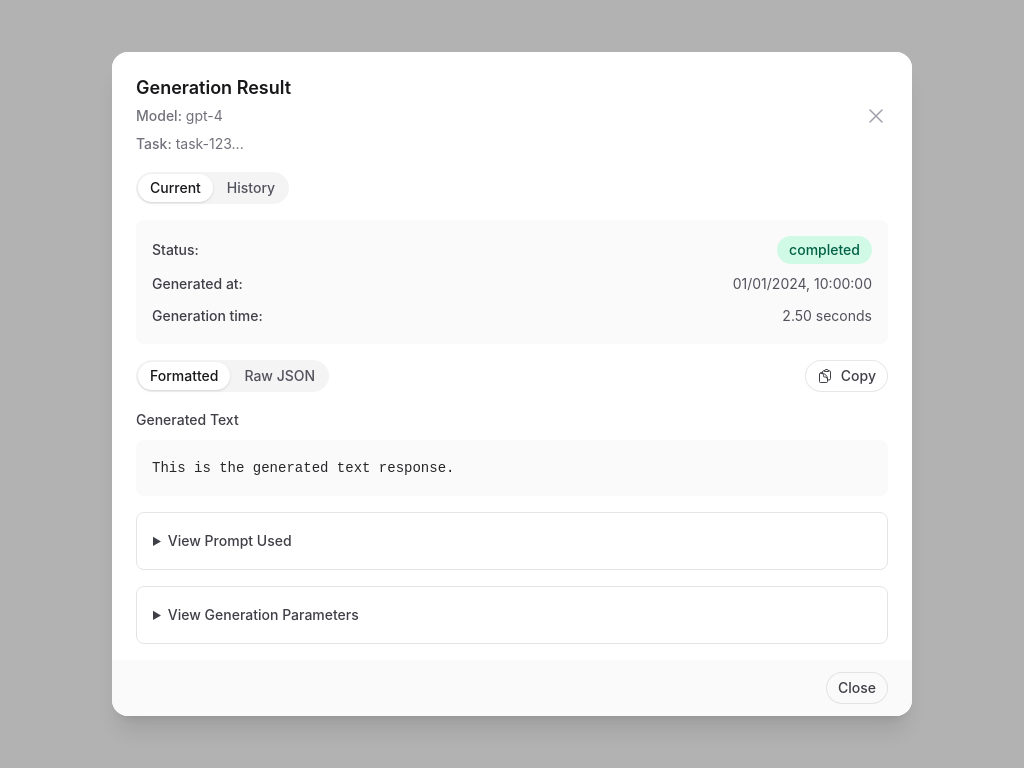
GenerationResultModal Component › view mode toggle › displays JSON in raw mode
Step 1. Click the button "Raw JSON" → {"x": 280, "y": 376}, box [232,362,327,390]
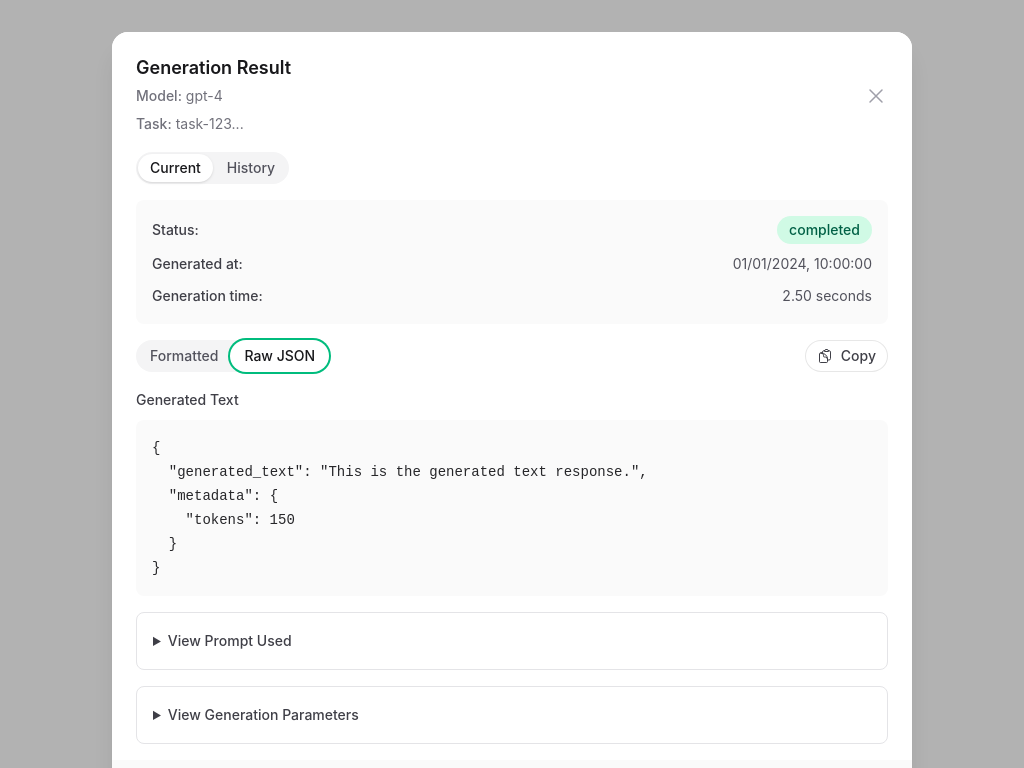
Now the text "\"generated_text\":" is shown, box [152,440,648,576]
